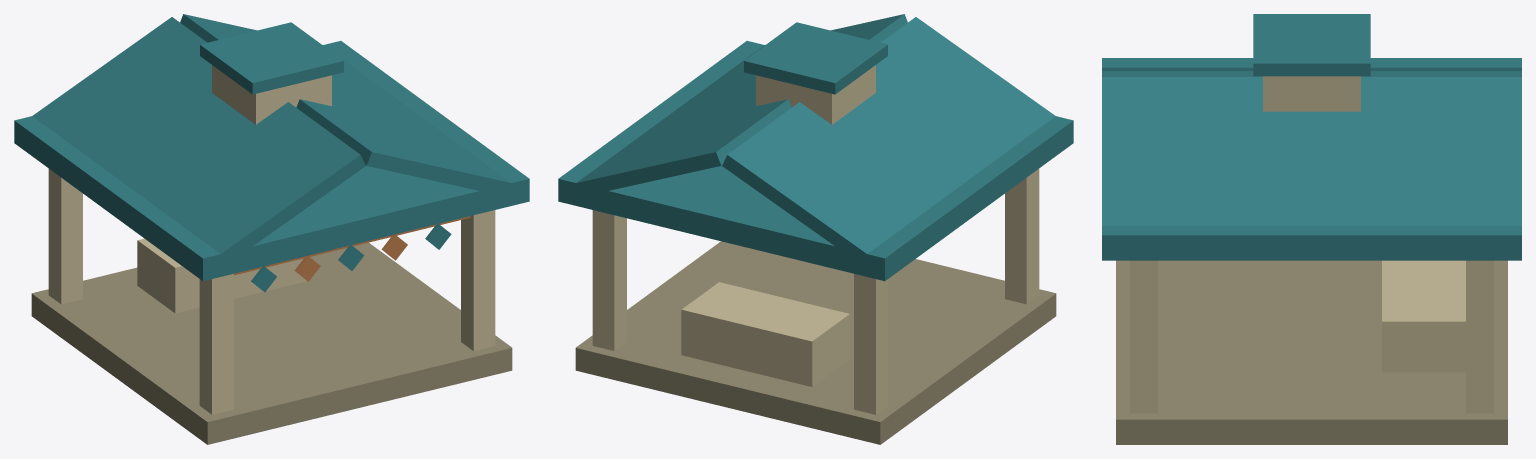
The model's file is theme_crosshaven.glb.
3 views of the same model, side by side, from view 1: azimuth 30°, elevation 25°; view 2: azimuth 150°, elevation 25°; view 3: azimuth 270°, elevation 25° (orthographic). The views are drawn at different scales.
Visible parts, largest first — view 1: theme_crosshaven; view 2: theme_crosshaven; view 3: theme_crosshaven.
Part boxes in pixels (box(x1,y1,x2,y2)): theme_crosshaven: box(14, 14, 529, 444); theme_crosshaven: box(558, 14, 1073, 444); theme_crosshaven: box(1102, 14, 1521, 444).
Bounding box in the file's own units: 15 × 12.75 × 15.
